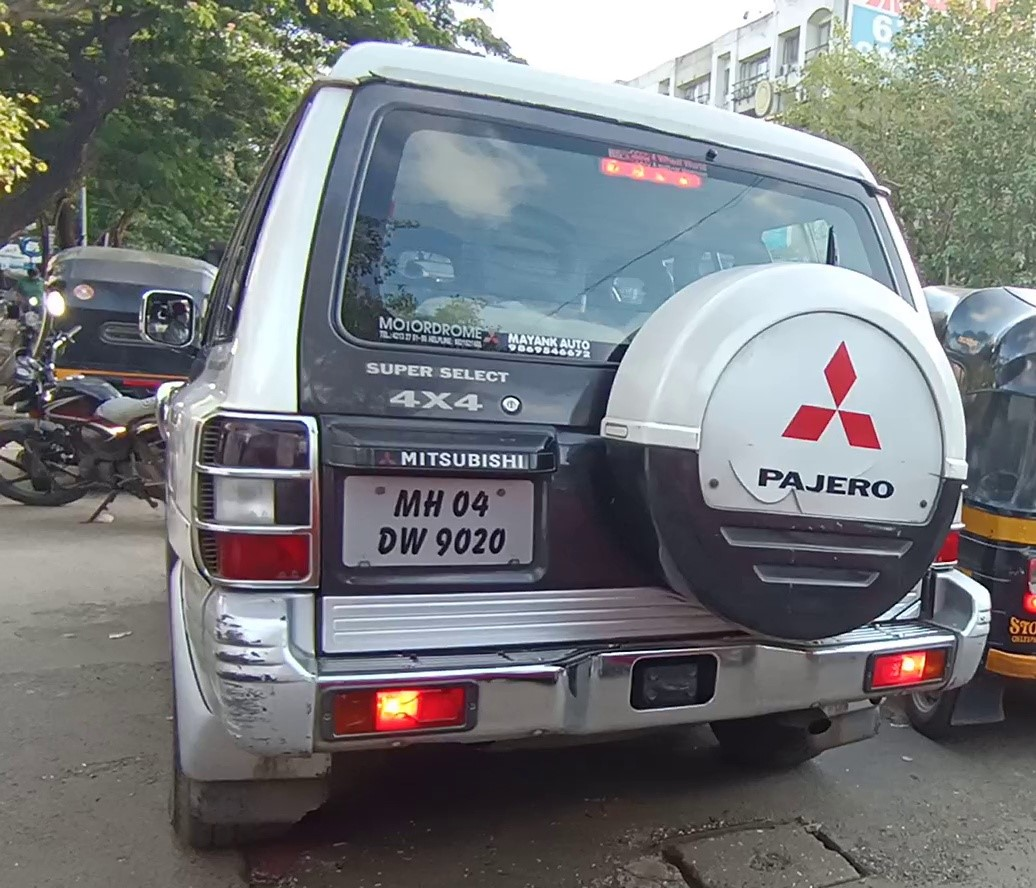MH04DW9020: (340, 469, 538, 569)
